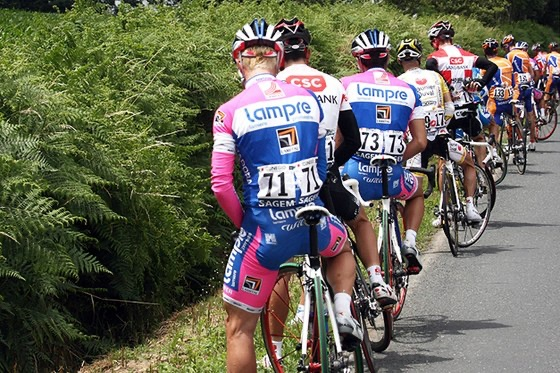helmet: (226, 19, 286, 83), (349, 26, 393, 75)
